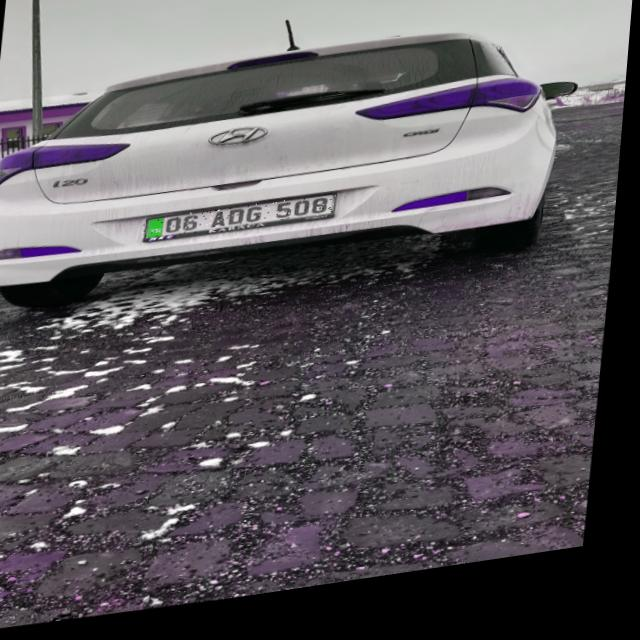license_plate: (145, 201, 342, 248)
